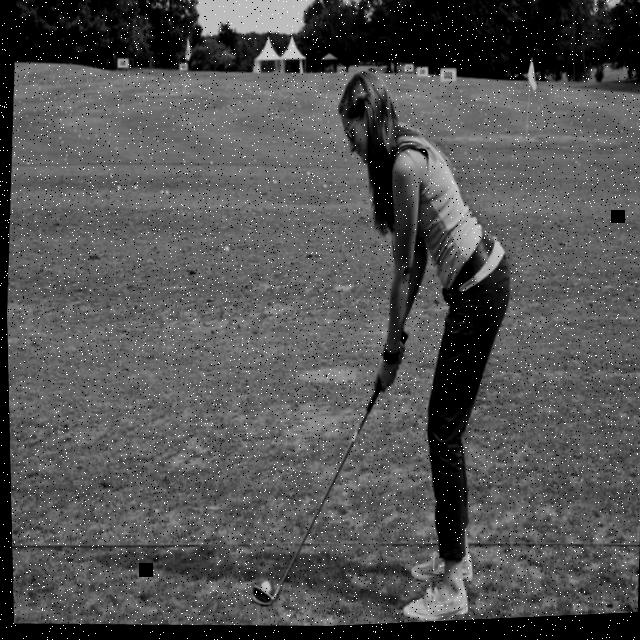ClubHead: (239, 584, 284, 622)
GolfBall: (257, 580, 271, 598)
